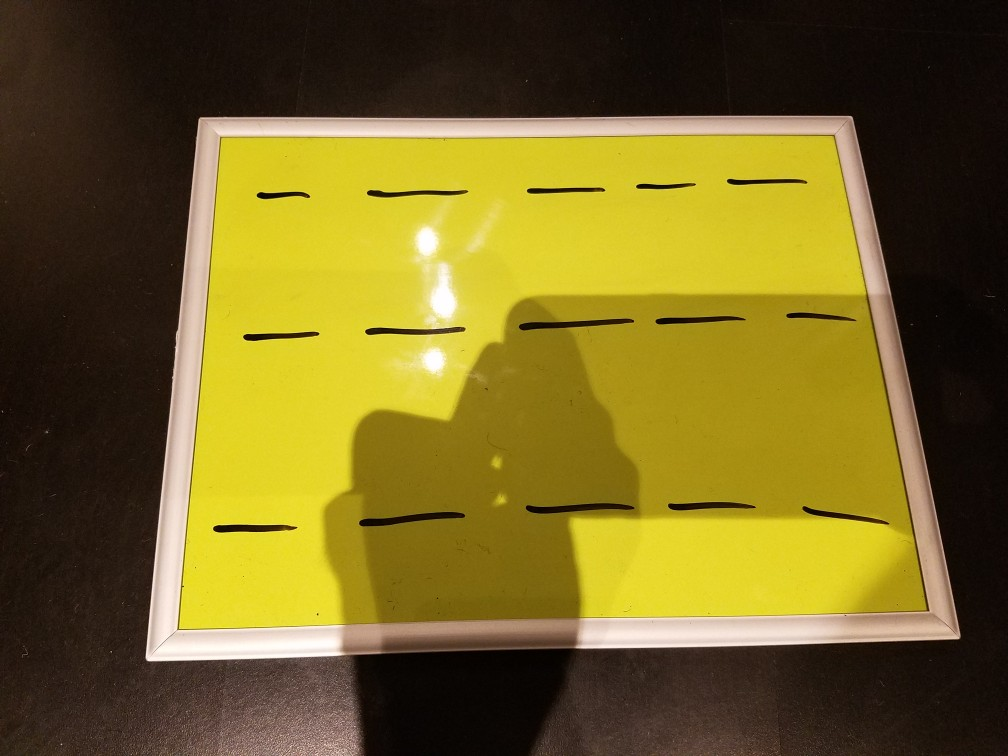-: (507, 470, 641, 541), (351, 485, 473, 556), (505, 297, 636, 362), (359, 305, 479, 364), (356, 169, 481, 222), (198, 505, 310, 564), (657, 477, 770, 534), (646, 293, 753, 351), (799, 486, 889, 552), (518, 156, 616, 211), (233, 315, 346, 360), (774, 288, 865, 339), (728, 156, 813, 200), (624, 159, 711, 201), (234, 173, 324, 213)
